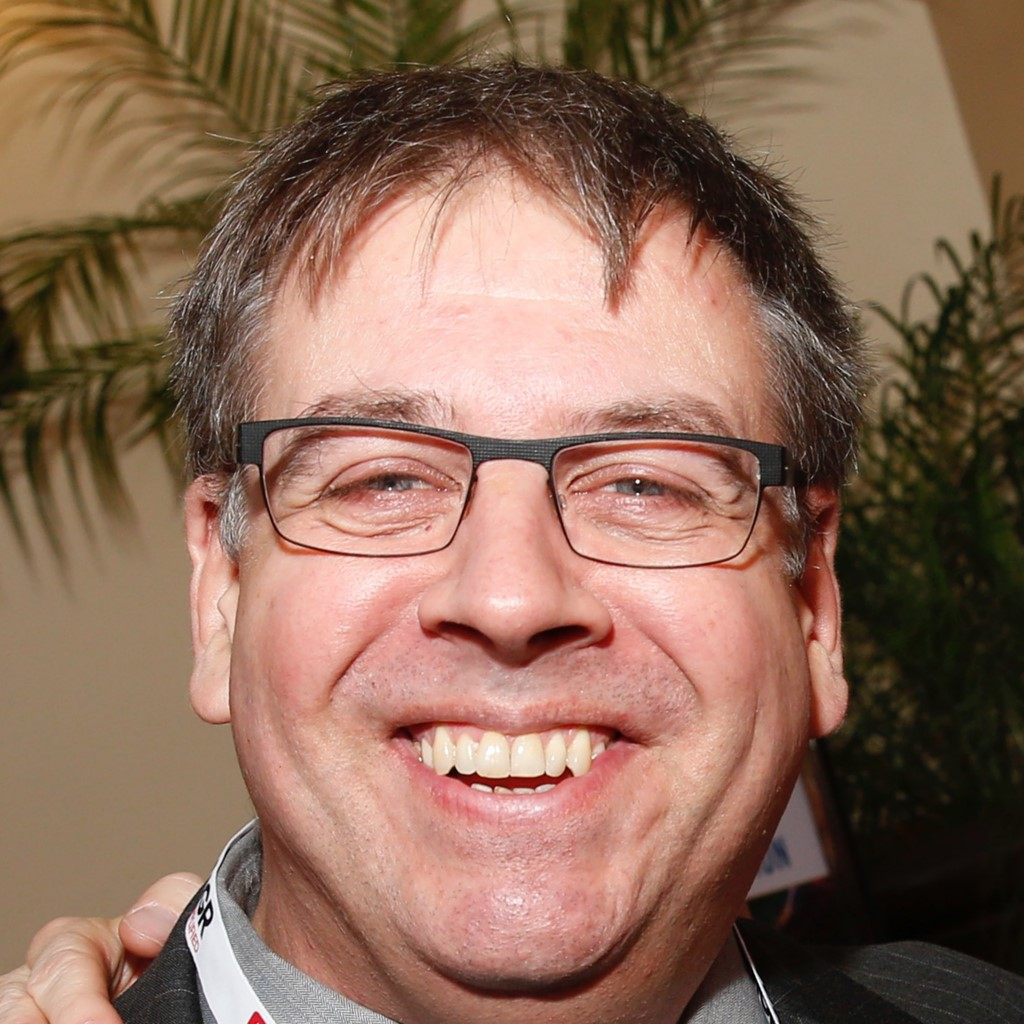sin_mascara: (233, 139, 807, 970)
